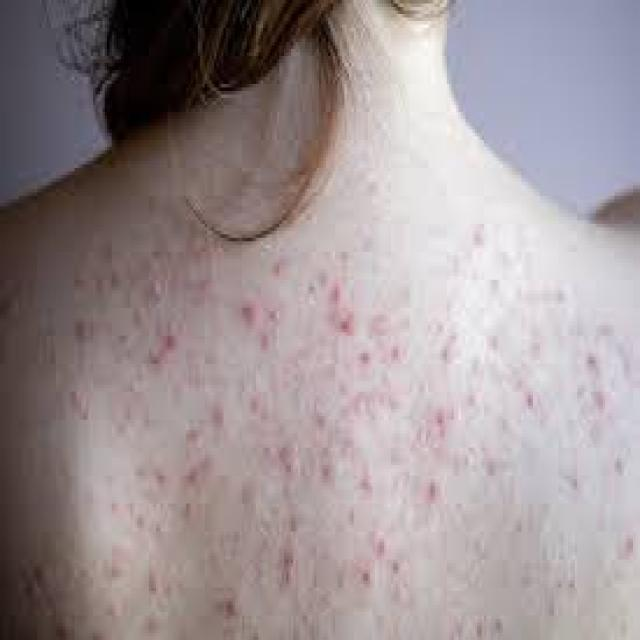Acne: (413, 407, 447, 456), (280, 544, 299, 594), (241, 299, 261, 327), (422, 478, 442, 505), (280, 448, 298, 478), (221, 594, 241, 621), (355, 560, 374, 588), (353, 473, 374, 497), (320, 458, 336, 488), (339, 309, 355, 338), (185, 426, 203, 451), (372, 533, 388, 561), (522, 389, 539, 413), (592, 393, 608, 418), (210, 403, 225, 429), (369, 315, 385, 338), (272, 259, 289, 279), (162, 332, 178, 353), (332, 280, 342, 304), (260, 332, 271, 351)
